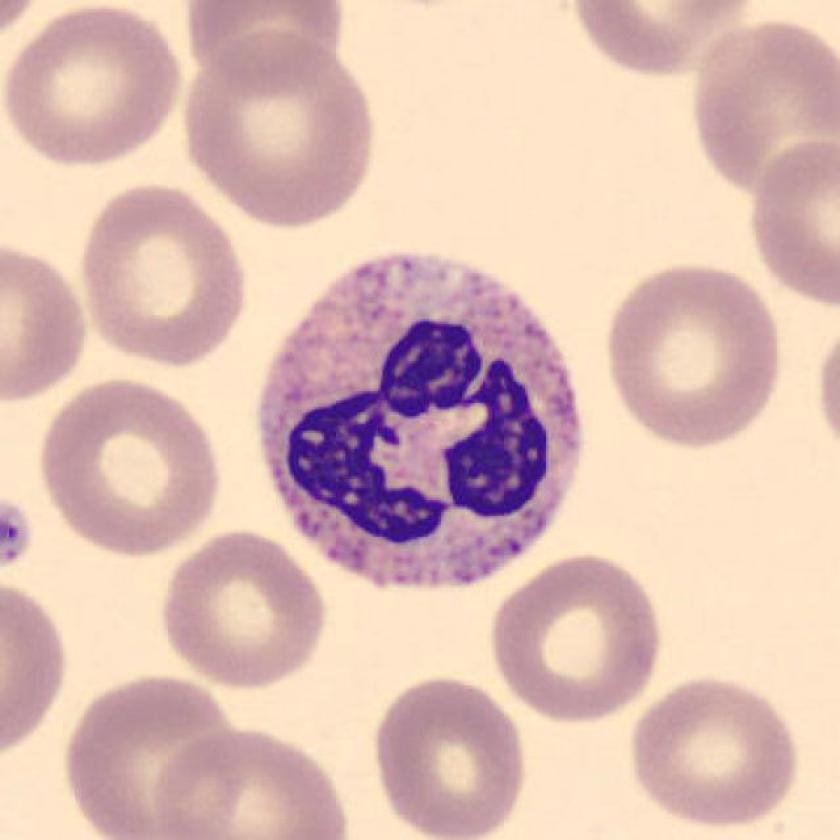neutrophil: (262, 256, 581, 585)
